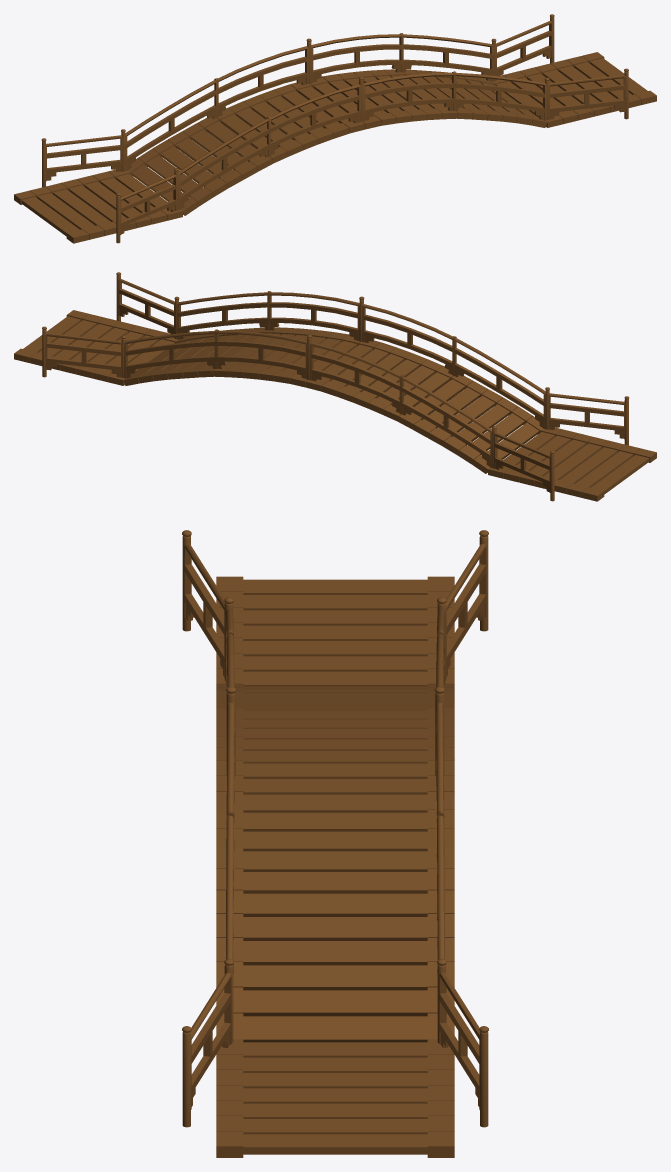
File: mesh_bridge.fbx
3 views of the same model, one above another, from view 1: azimuth 30°, elevation 25°; view 2: azimuth 150°, elevation 25°; view 3: azimuth 270°, elevation 25° (orthographic). The views are drawn at different scales.
Visible parts, largest first — view 1: bridge_03_wood; view 2: bridge_03_wood; view 3: bridge_03_wood.
Boxes of the visible parts, x1,y1,x2,y2 form: bridge_03_wood: (14, 14, 656, 243); bridge_03_wood: (14, 272, 656, 501); bridge_03_wood: (182, 530, 488, 1157).
Bounding box in the file's own units: 14.37 × 2.24 × 3.28.
